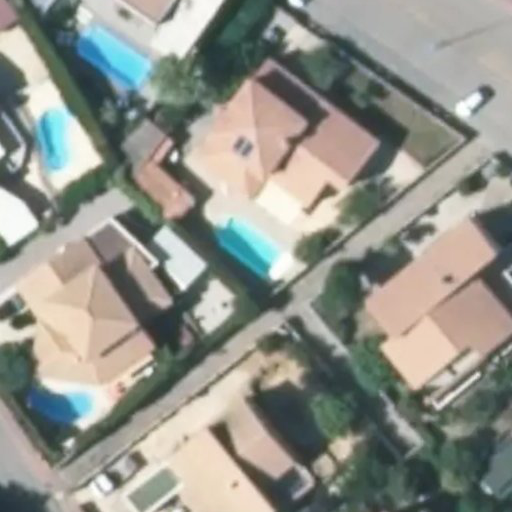pool: (214, 232, 291, 245)
